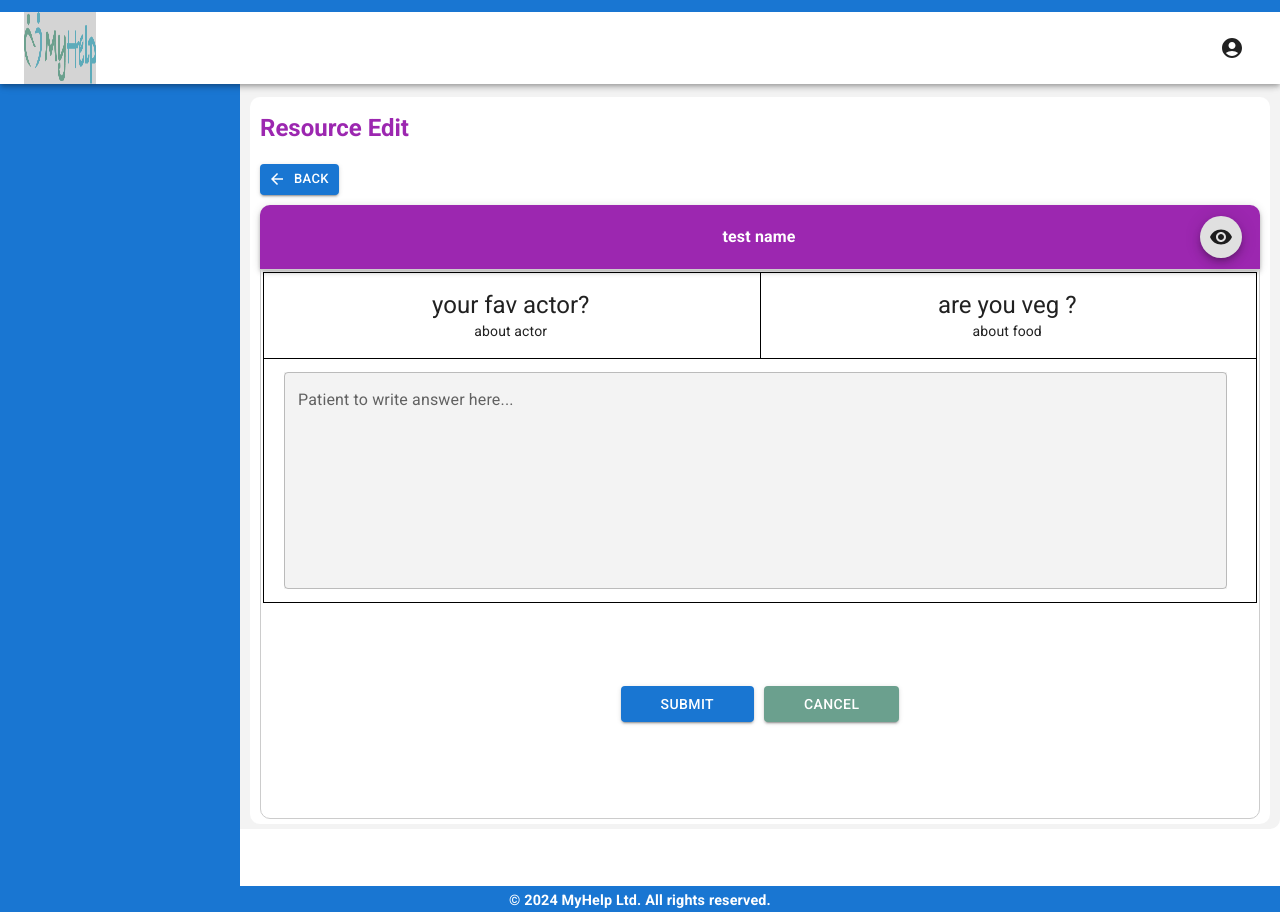
Test: Patient view template page › Should display the view on eye button click
The width and height of the screenshot is (1280, 912).
Expected: the button with test id "eyeIconButton" is shown, [1200,216,1242,258]
Type "some text" into the text box with class "cells" at (756, 480), box [298,388,1213,572]
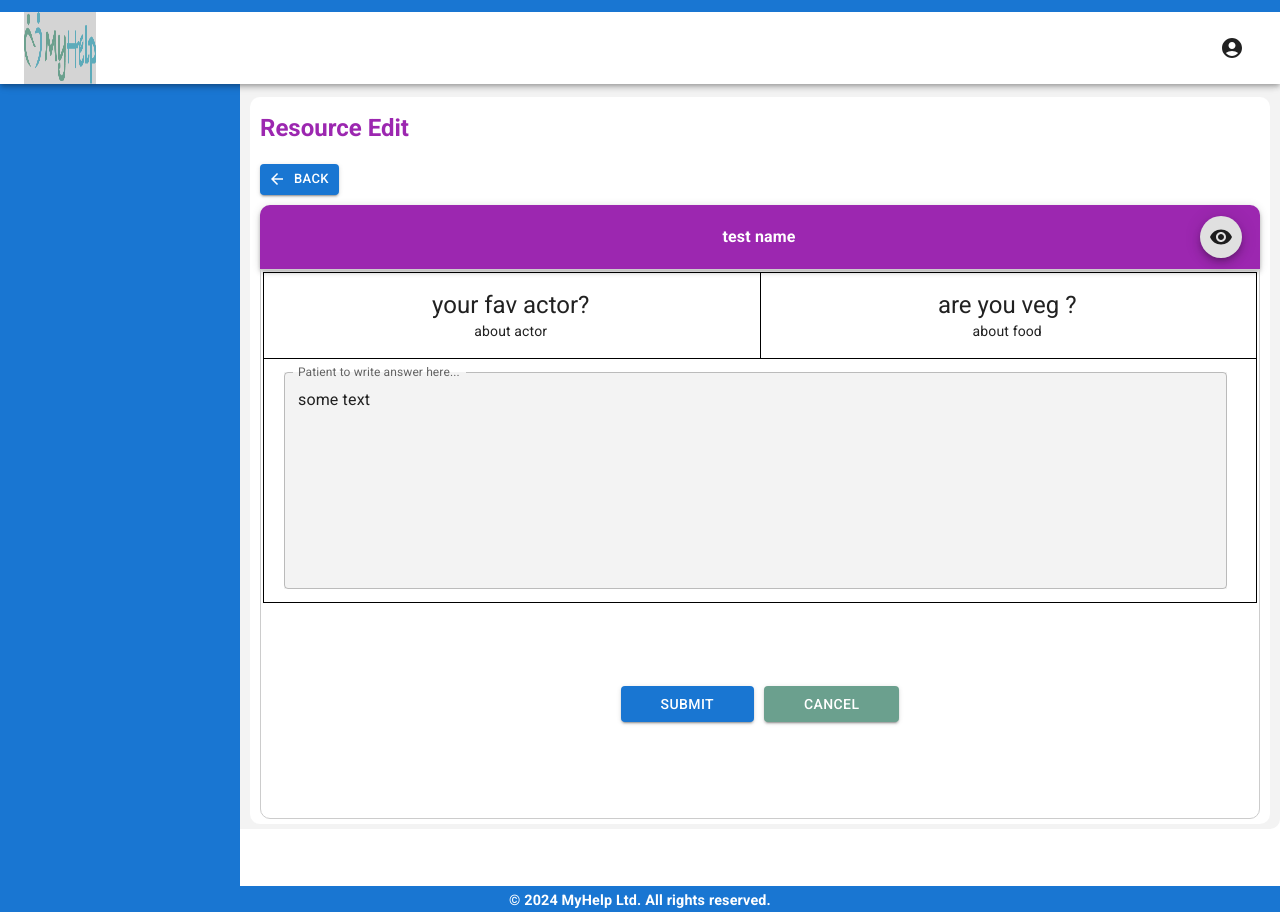
Click the button with test id "eyeIconButton" at (1221, 237), box [1200,216,1242,258]
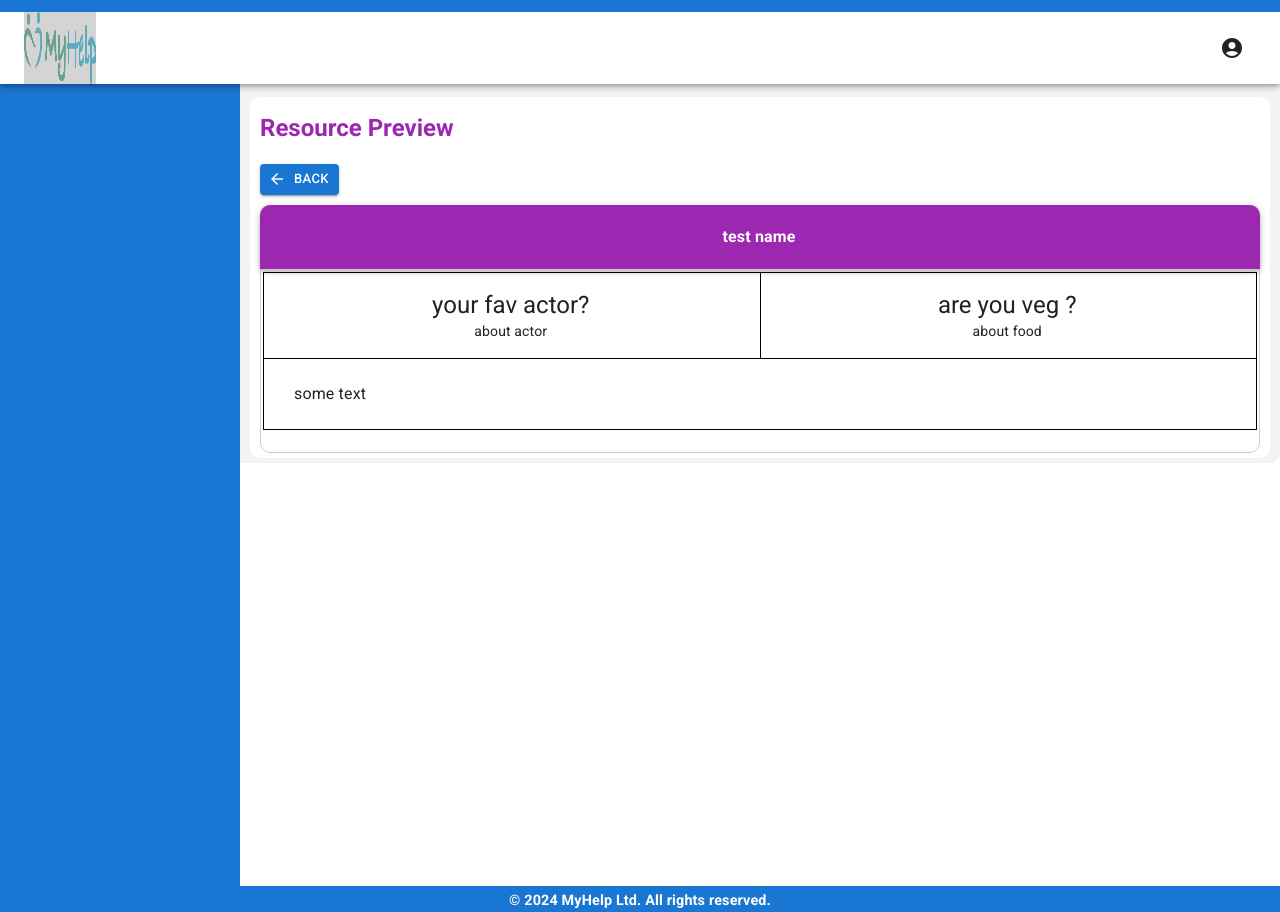
Expected: the text with test id "view-text-input" reads "some text", [294,384,366,403]
